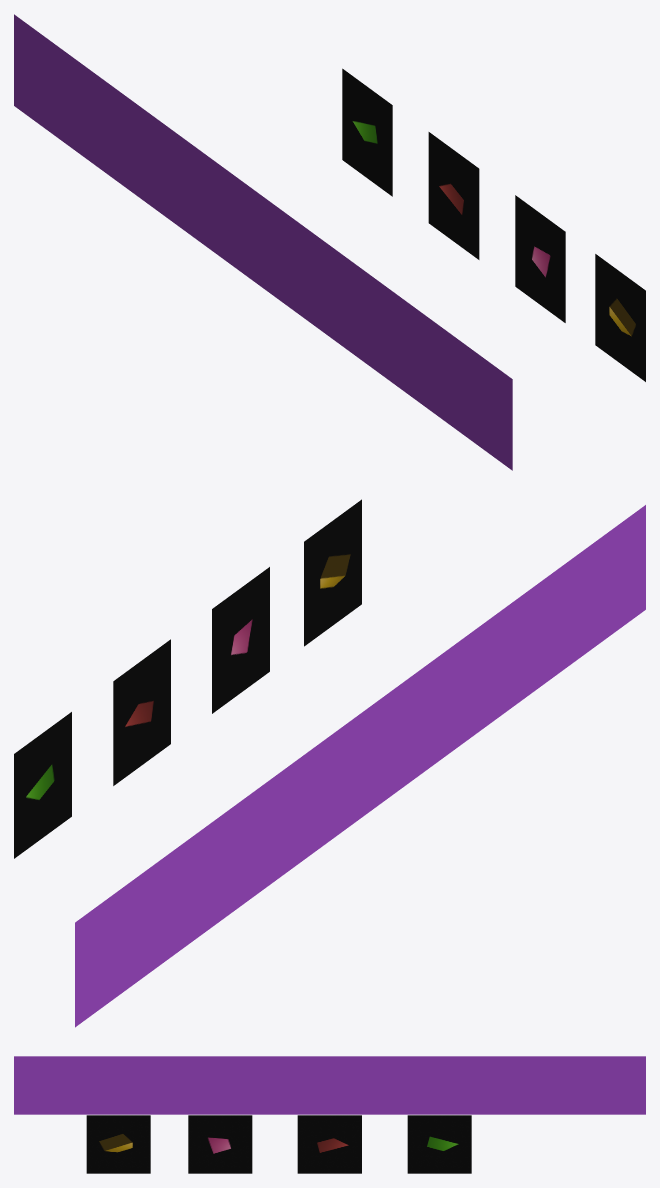
3 renders of one model, top to bottom at view 1: azimuth 30°, elevation 25°; view 2: azimuth 150°, elevation 25°; view 3: azimuth 270°, elevation 25°, orthographic. The views are drawn at different scales.
Visible parts, largest first — view 1: Background, Red, Gold, Green, Pink; view 2: Background, Gold, Green, Pink, Red; view 3: Background, Gold, Green, Pink, Red.
Part boxes in pixels (left/top/right/bottom): Background: left=14, top=14, right=512, bottom=470; Red: left=428, top=132, right=479, bottom=259; Gold: left=595, top=254, right=645, bottom=381; Green: left=342, top=68, right=392, bottom=196; Pink: left=515, top=195, right=565, bottom=322; Background: left=75, top=505, right=645, bottom=1027; Gold: left=304, top=499, right=361, bottom=646; Green: left=14, top=712, right=71, bottom=858; Pink: left=212, top=567, right=269, bottom=713; Red: left=113, top=639, right=170, bottom=785; Background: left=14, top=1056, right=645, bottom=1114; Gold: left=86, top=1115, right=150, bottom=1173; Green: left=407, top=1115, right=471, bottom=1173; Pink: left=188, top=1115, right=252, bottom=1173; Red: left=297, top=1115, right=361, bottom=1173.
Size of the model in its own units: 4.36 by 2 by 19.72.
5 materials, 4 textured.
